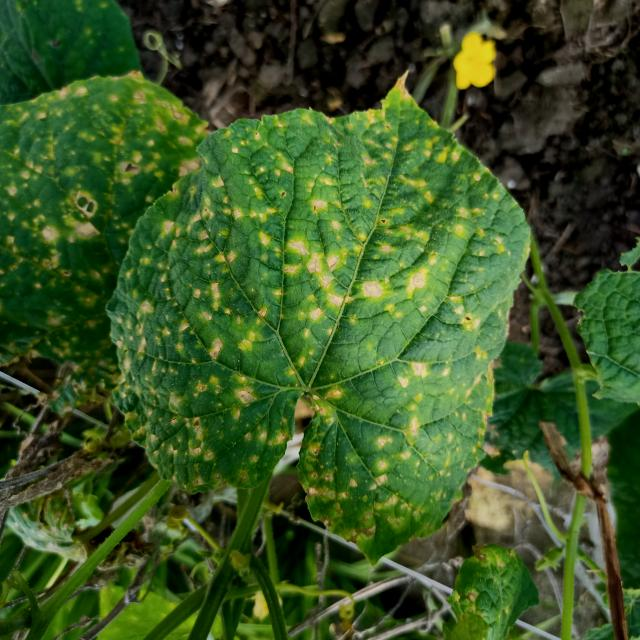disease_cucumber: (116, 96, 529, 547), (0, 76, 210, 380)
